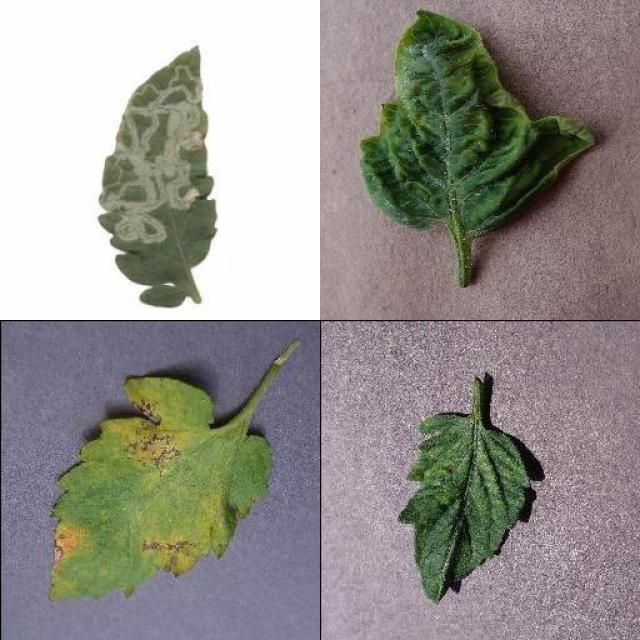Septoria: (49, 375, 269, 603)
